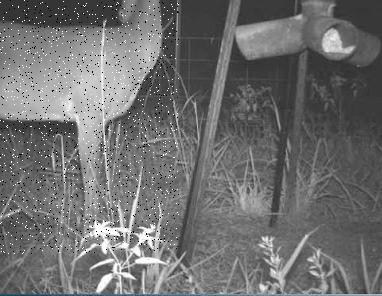Deer: (0, 0, 179, 254)
